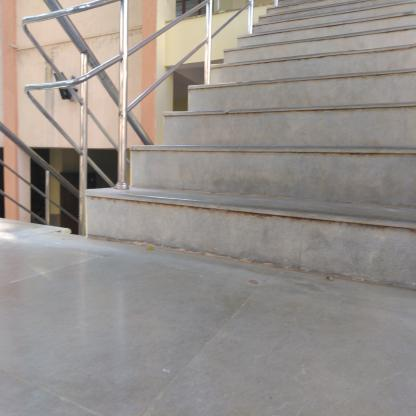stairs: (255, 20, 416, 295)
